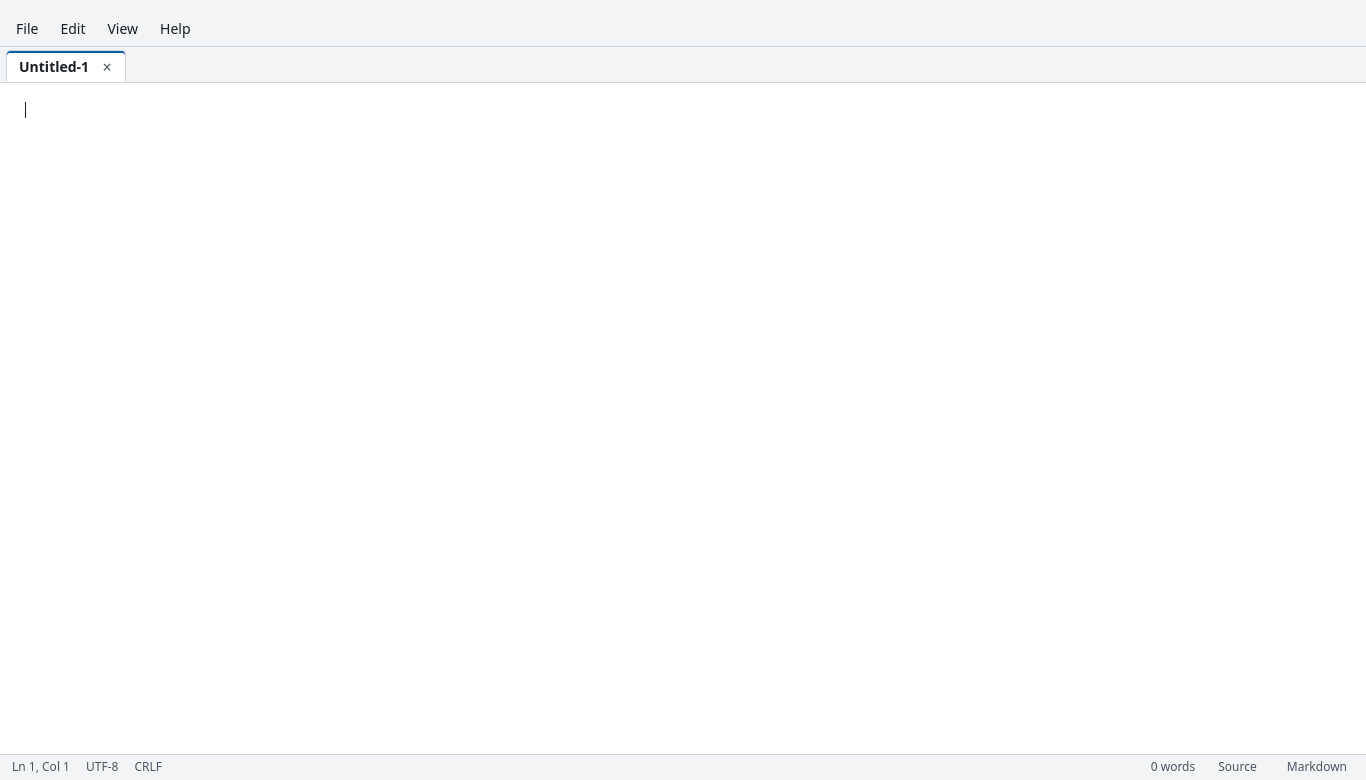
Scenario: empty state › Open file… in the empty state opens the file dialog
Expected: the tab "Untitled-1" is shown, [7,51,93,82]
Press w
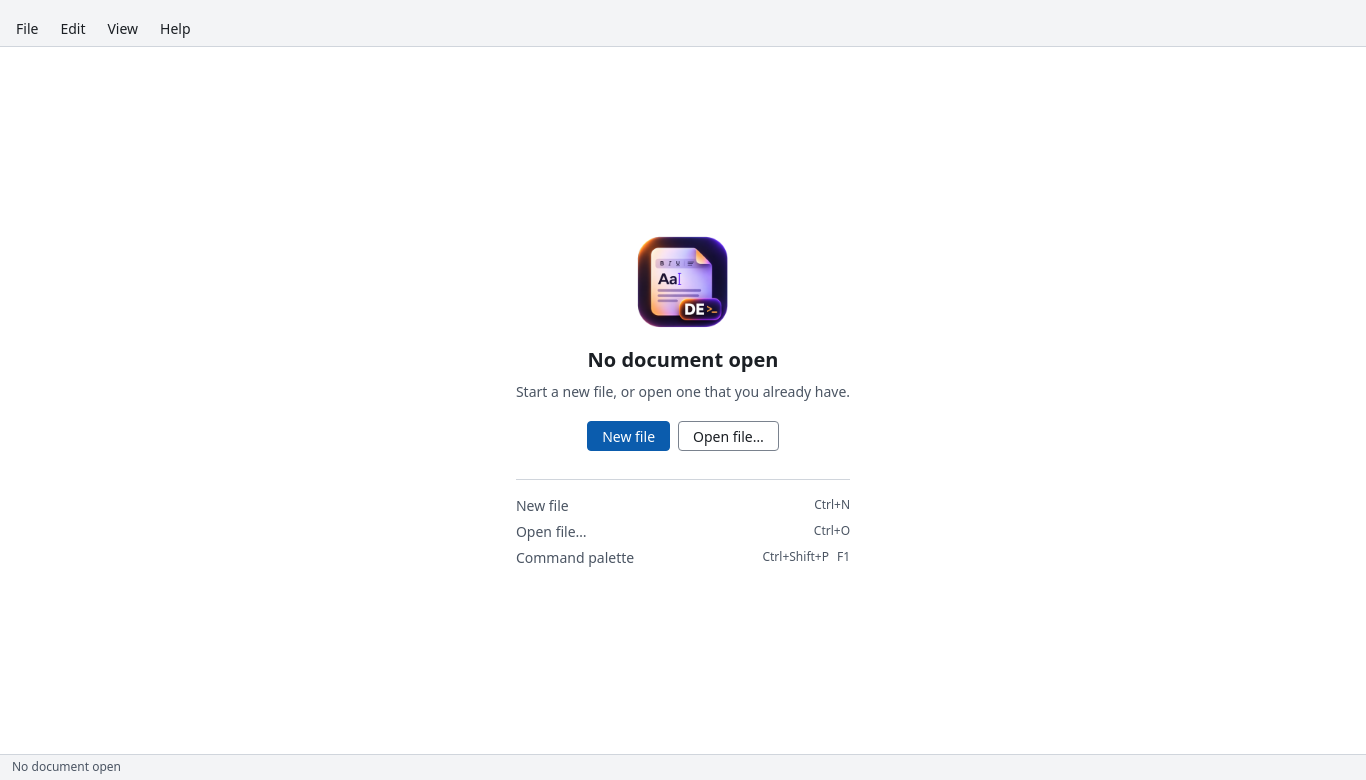
Now the heading "No document open" is shown, box [588,346,778,373]
Click the button "Open file…" at x=728, y=436, box [678,421,779,451]
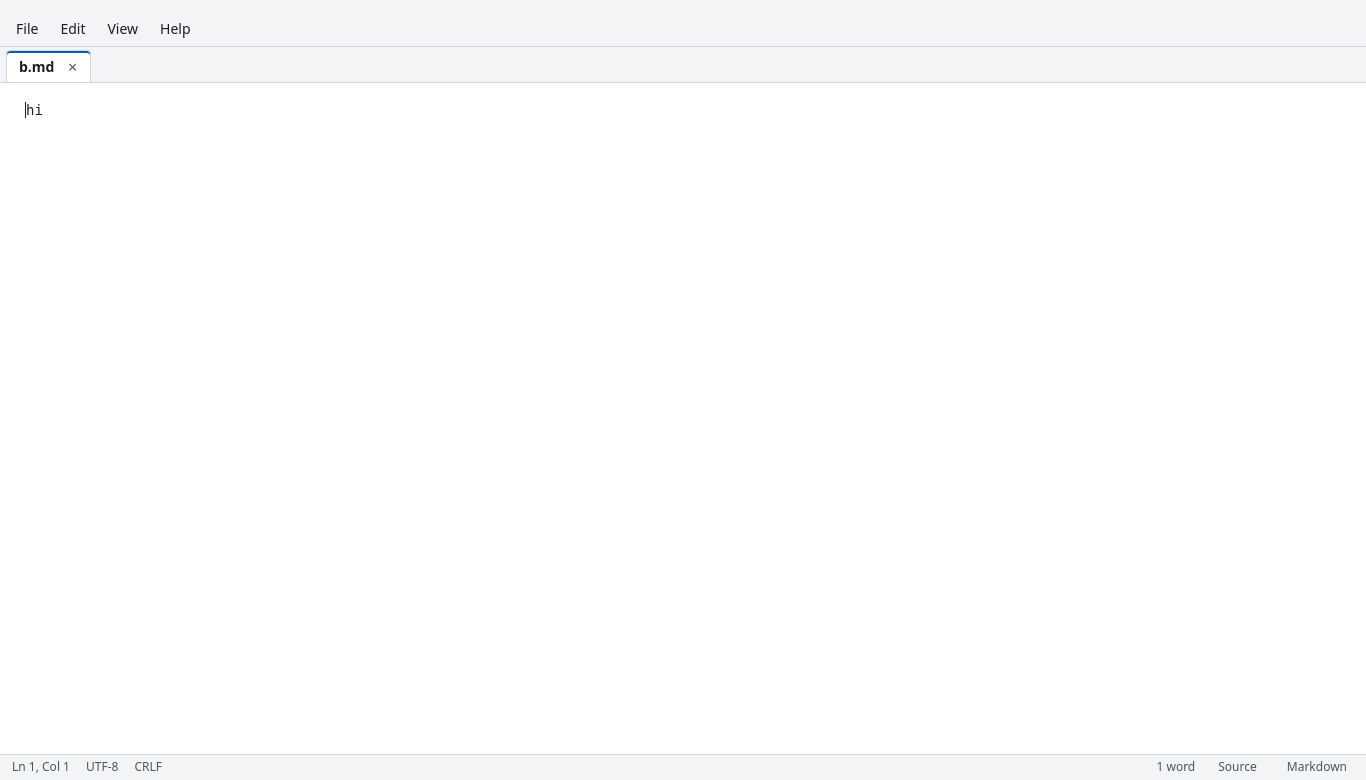
Now the tab "b.md" is shown, box [7,51,58,82]
